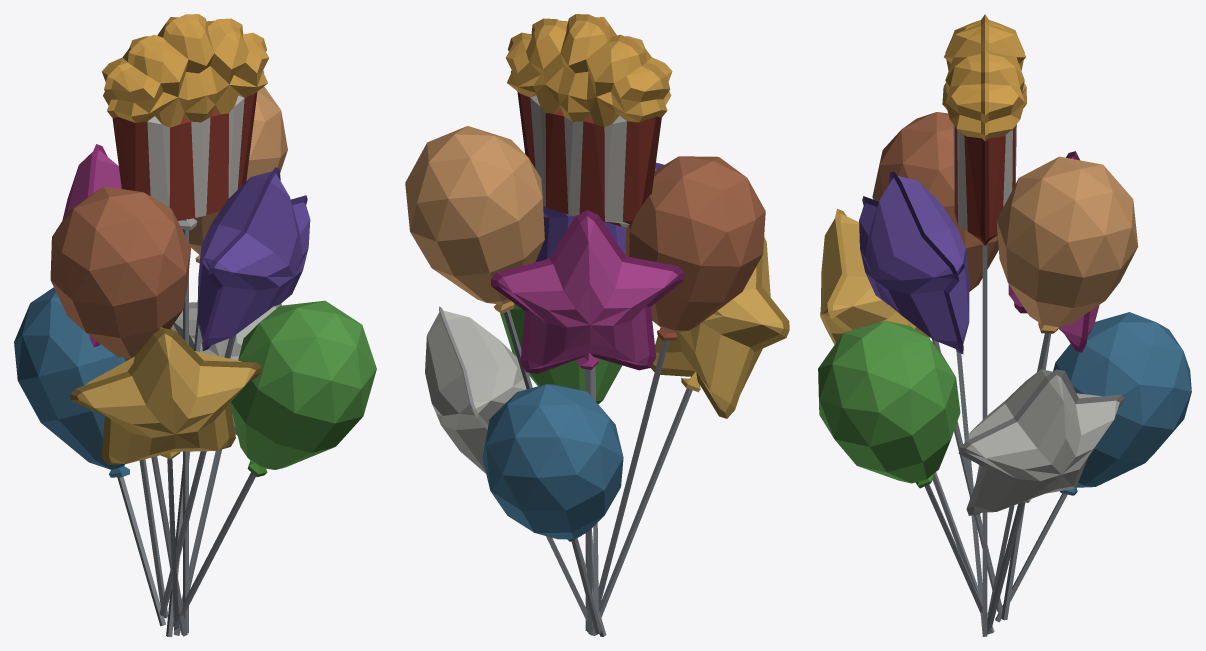
The model's file is SM_Prop_Balloon_02.glb.
The picture shows the model from 3 angles, left to right: view 1: azimuth 30°, elevation 25°; view 2: azimuth 150°, elevation 25°; view 3: azimuth 270°, elevation 25°; orthographic projection.
Parts seen in each view (by area): view 1: SM_Prop_Balloon_02; view 2: SM_Prop_Balloon_02; view 3: SM_Prop_Balloon_02.
Part boxes in pixels (x1,y1,x2,y2): SM_Prop_Balloon_02: (14,14,376,636); SM_Prop_Balloon_02: (405,14,789,636); SM_Prop_Balloon_02: (818,14,1191,636).
Size of the model in its own units: 115 by 233 by 128.
Materials: 1 (1 with a texture image).
